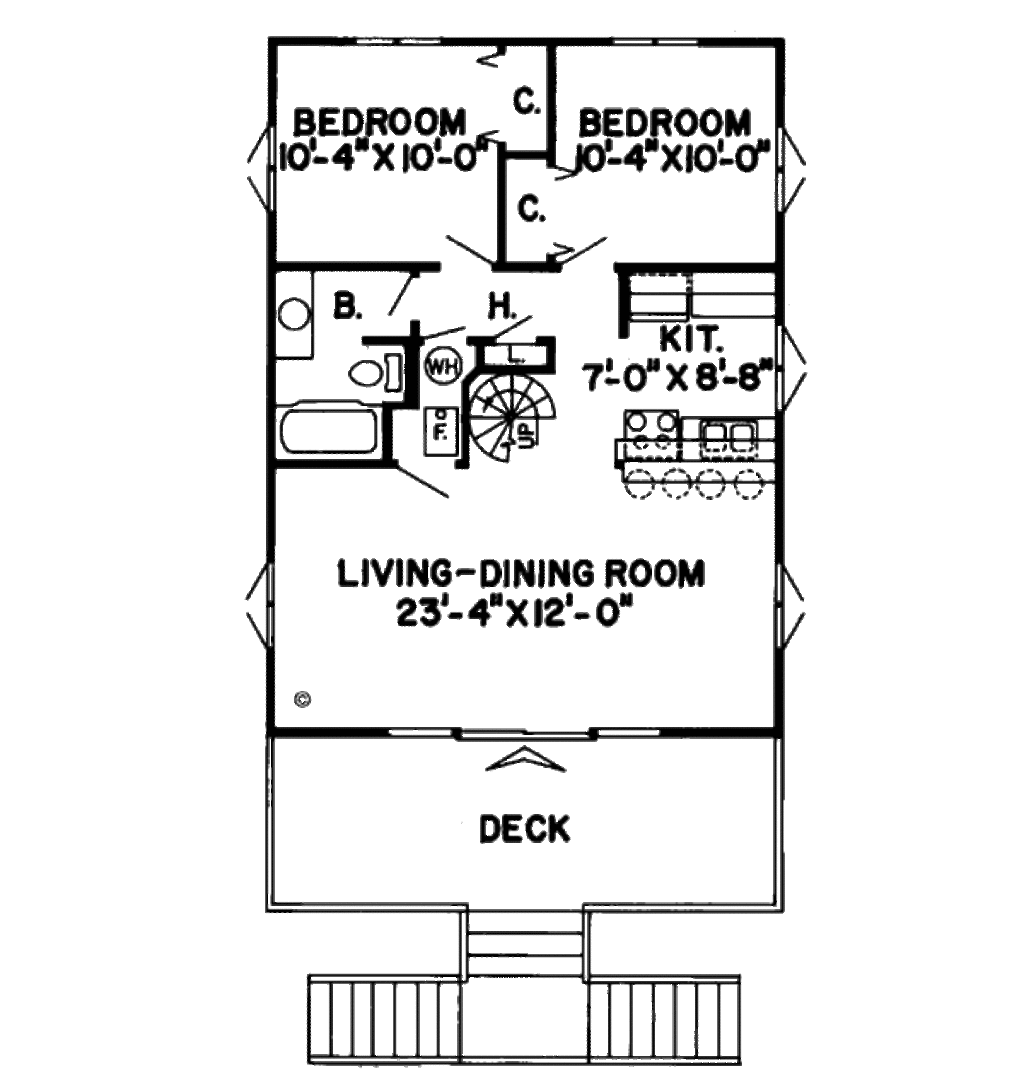door: (385, 457, 457, 508), (560, 238, 636, 283), (431, 227, 504, 271), (776, 132, 814, 215), (381, 267, 434, 322)
large_sink: (348, 343, 405, 397)
small_sink: (277, 259, 313, 365)
stairs: (298, 893, 761, 1067), (464, 369, 562, 466)
tub: (268, 403, 387, 459)
window: (348, 34, 462, 51), (617, 36, 700, 52)
